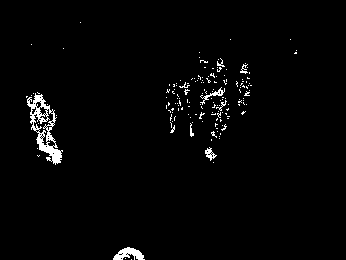person: (24, 90, 64, 165), (234, 62, 251, 114)
